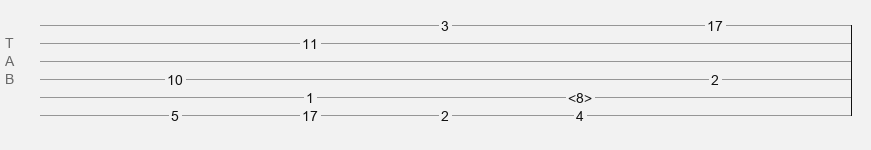1: (306, 90, 314, 100)
10: (167, 72, 183, 82)
11: (302, 36, 318, 46)
17: (302, 108, 318, 118), (707, 18, 723, 28)
2: (441, 108, 449, 118), (711, 72, 719, 82)
3: (441, 18, 449, 28)
4: (576, 108, 584, 118)
5: (171, 108, 179, 118)
harmonic: (568, 90, 592, 100)
